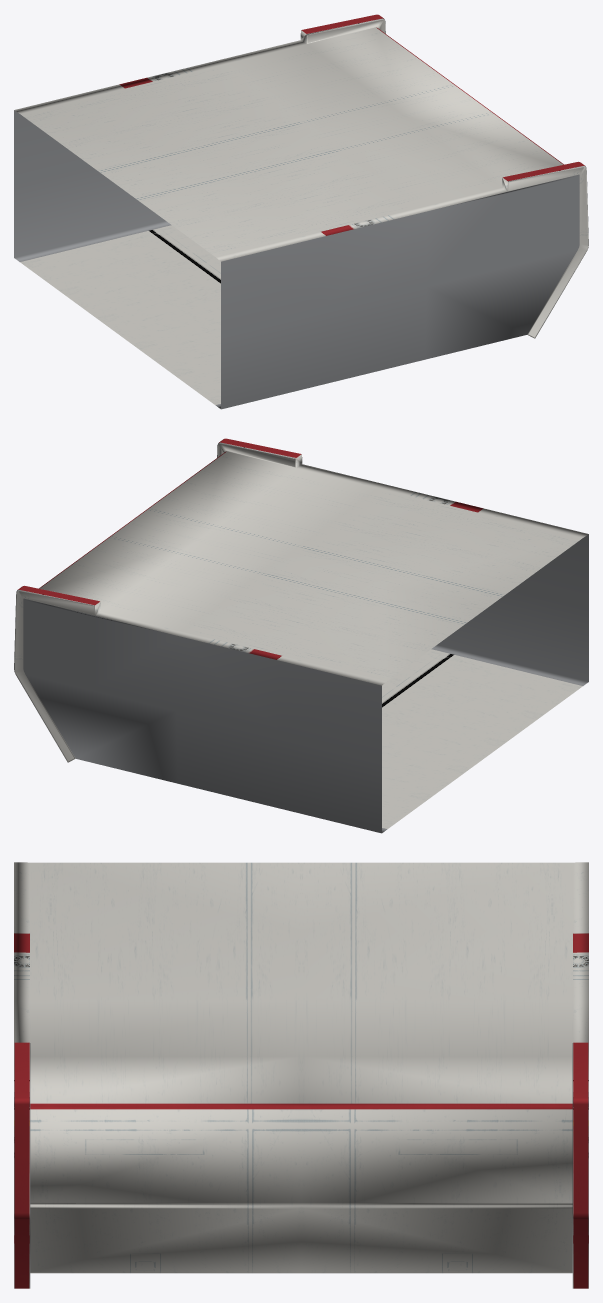
The model's file is G_Env_Arch_WallProp_02_BoxB.fbx.
3 renders of one model, top to bottom at view 1: azimuth 30°, elevation 25°; view 2: azimuth 150°, elevation 25°; view 3: azimuth 270°, elevation 25°, orthographic. The views are drawn at different scales.
Visible parts, largest first — view 1: G_Env_Arch_WallProp_02_BoxB; view 2: G_Env_Arch_WallProp_02_BoxB; view 3: G_Env_Arch_WallProp_02_BoxB.
Part boxes in pixels (box(x1,y1,x2,y2)): G_Env_Arch_WallProp_02_BoxB: box(14, 14, 588, 409); G_Env_Arch_WallProp_02_BoxB: box(14, 438, 588, 833); G_Env_Arch_WallProp_02_BoxB: box(14, 862, 588, 1288).
Size of the model in its own units: 513 by 219 by 500.
